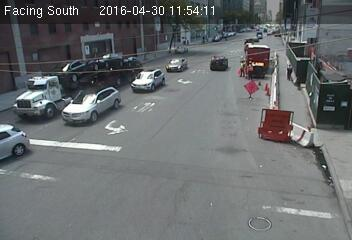neg: (163, 155, 192, 194), (83, 101, 107, 133), (277, 156, 301, 188), (232, 194, 255, 225), (146, 71, 164, 96)
pos: (242, 58, 258, 80), (233, 57, 249, 78), (283, 62, 295, 79)
